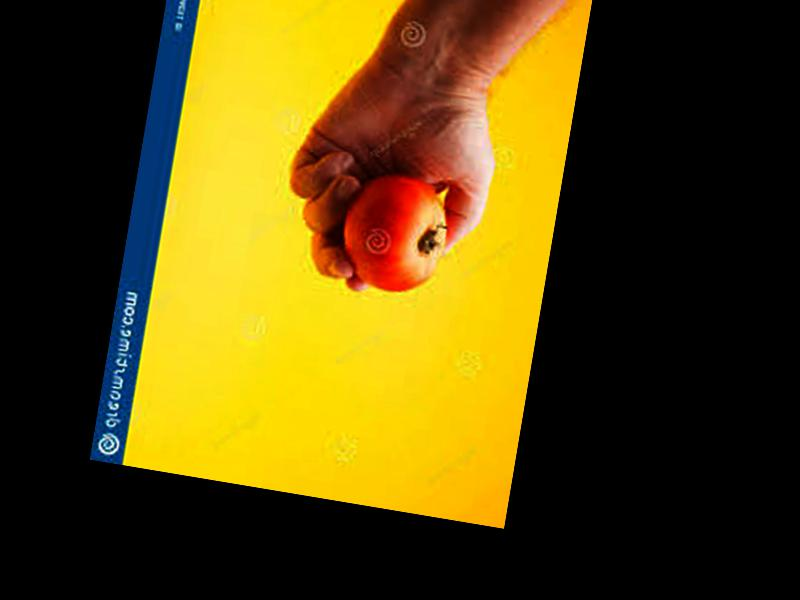Tomato: (335, 167, 454, 297)
